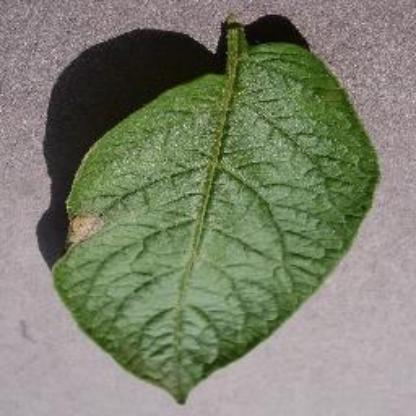Late-Blight: (44, 15, 392, 409)
